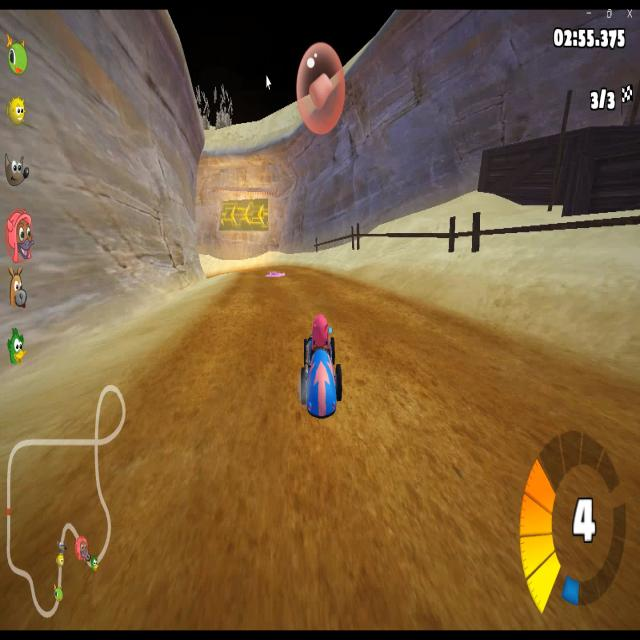obstacle: (264, 269, 290, 285)
player_kart: (300, 312, 338, 412)
track: (210, 280, 358, 310)
